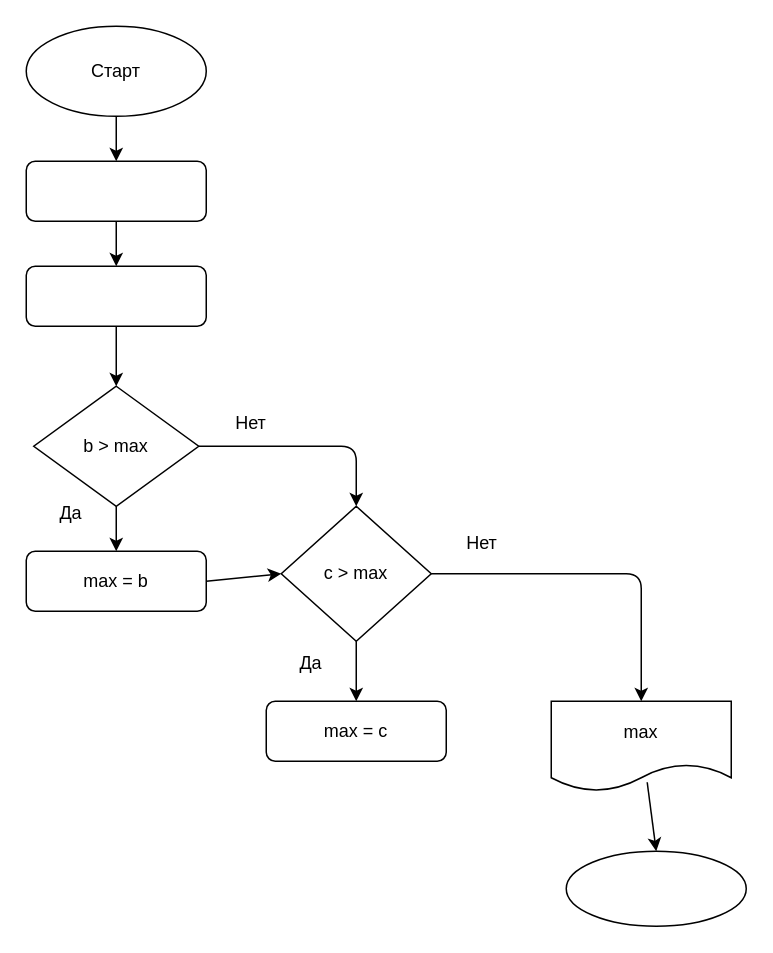
Image size: 773x953. Some labels were removed from this diagram. The centre of each missing label's shape, as x and y in pixels:
"a, b, c" belongs at point (115, 190).
"max = a" belongs at point (115, 295).
"Конец" belongs at point (655, 888).
